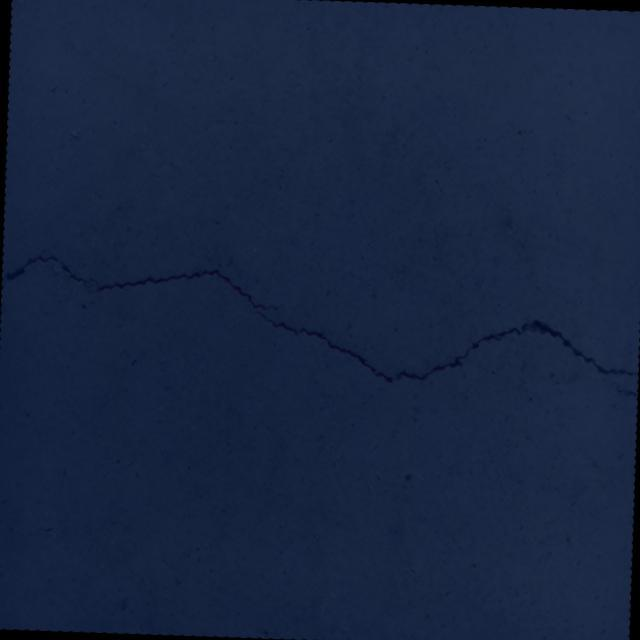crack: (0, 246, 640, 393), (602, 377, 638, 398)
